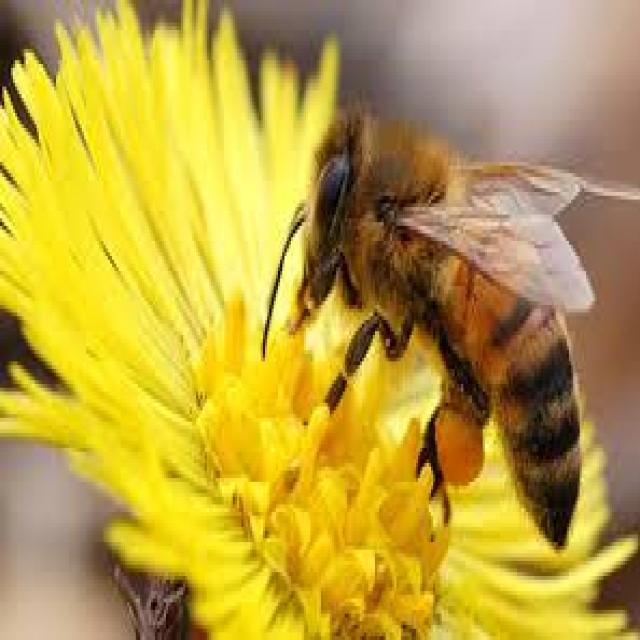Bees: (262, 98, 594, 558)
